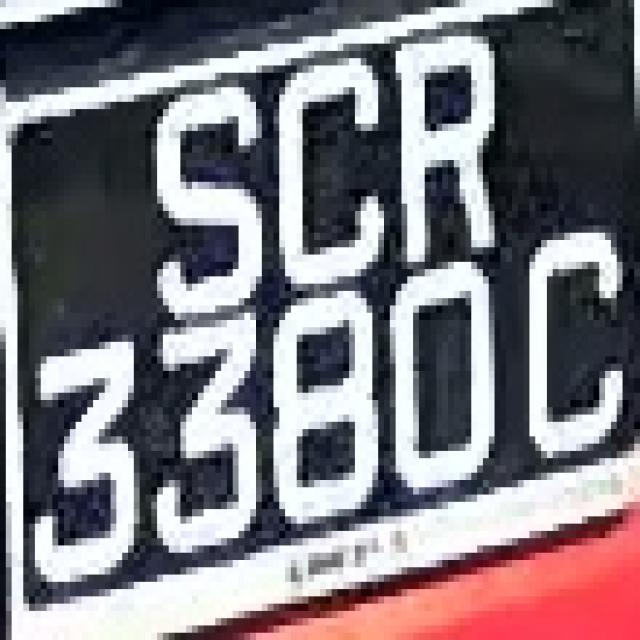0: (384, 254, 500, 516)
3: (151, 284, 268, 574), (29, 327, 146, 589)
8: (274, 269, 378, 531)
C: (262, 36, 390, 284), (506, 233, 634, 465)
R: (389, 22, 524, 262)
S: (116, 65, 268, 313)
